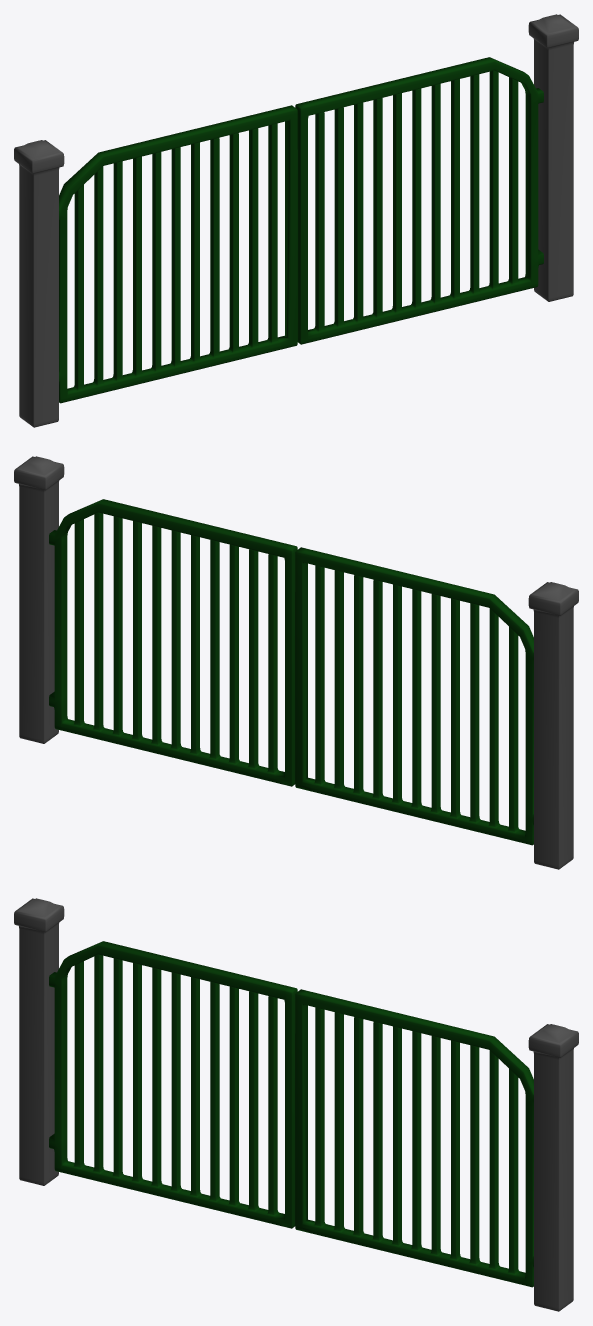
Rendered from Gate.fbx.
The picture shows the model from 3 angles, top to bottom: view 1: azimuth 30°, elevation 25°; view 2: azimuth 150°, elevation 25°; view 3: azimuth 330°, elevation 25°; orthographic projection.
Visible parts, largest first — view 1: Cube; view 2: Cube; view 3: Cube.
Part boxes in pixels (x1,y1,x2,y2): Cube: [14, 14, 578, 427]; Cube: [14, 456, 578, 869]; Cube: [14, 898, 578, 1311].
Size of the model in its own units: 425 by 204 by 25.11.
